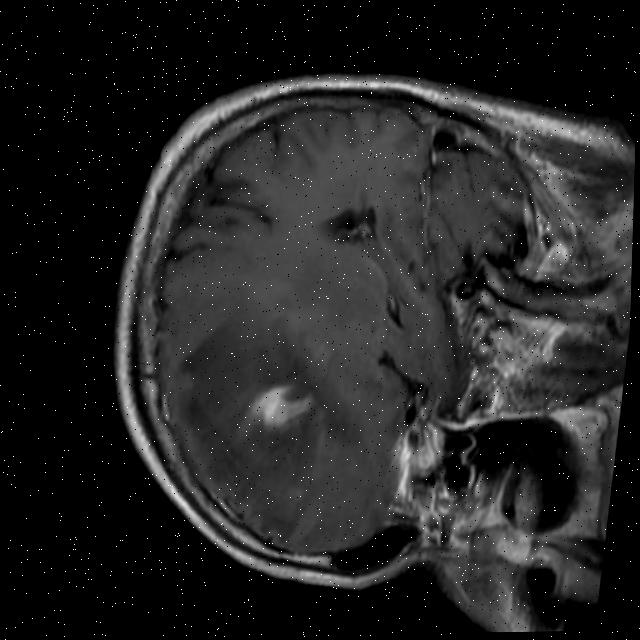Glioma: (244, 376, 316, 433)
